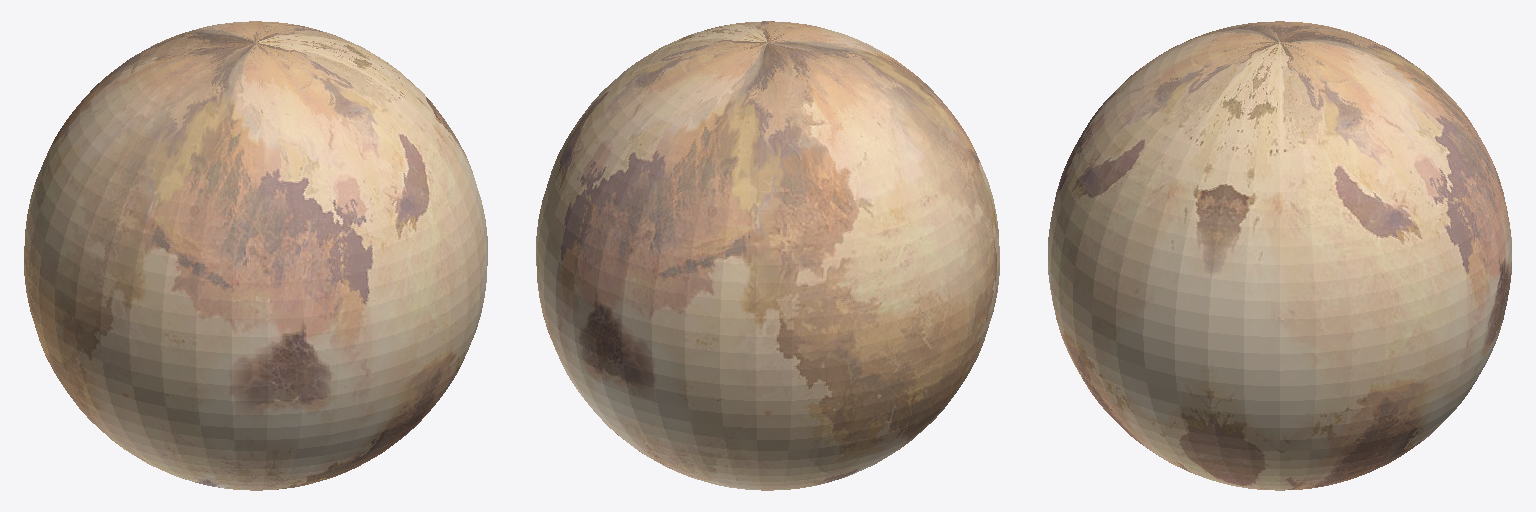
The picture shows the model from 3 angles: view 1: azimuth 30°, elevation 25°; view 2: azimuth 150°, elevation 25°; view 3: azimuth 270°, elevation 25°; orthographic projection.
Visible parts, largest first — view 1: xingqiu_04; view 2: xingqiu_04; view 3: xingqiu_04.
Boxes of the visible parts, x1=… form: xingqiu_04: x1=24, y1=21, x2=487, y2=490; xingqiu_04: x1=536, y1=21, x2=999, y2=490; xingqiu_04: x1=1048, y1=21, x2=1511, y2=490.
Size of the model in its own units: 11.82 by 11.97 by 11.82.
1 materials, 1 textured.